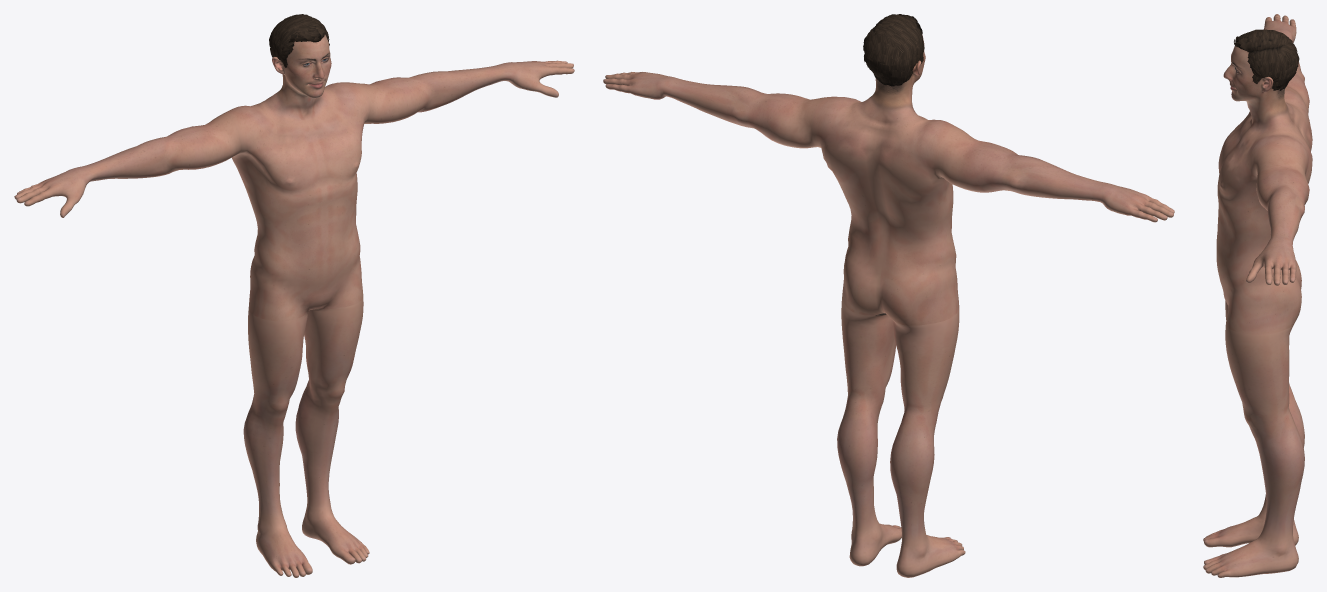
File: Homme_1024.obj
The picture shows the model from 3 angles, left to right: view 1: azimuth 30°, elevation 25°; view 2: azimuth 150°, elevation 25°; view 3: azimuth 270°, elevation 25°; orthographic projection. The views are drawn at different scales.
Visible parts, largest first — view 1: Body, Hair; view 2: Body, Hair; view 3: Body, Hair.
Part boxes in pixels (left/top/right/bottom): Body: left=14, top=34, right=574, bottom=577; Hair: left=269, top=14, right=329, bottom=67; Body: left=603, top=34, right=1174, bottom=577; Hair: left=863, top=14, right=924, bottom=86; Body: left=1203, top=14, right=1312, bottom=577; Hair: left=1234, top=29, right=1299, bottom=90.
Size of the model in its own units: 196 by 179 by 33.62.
2 materials, 2 textured.
